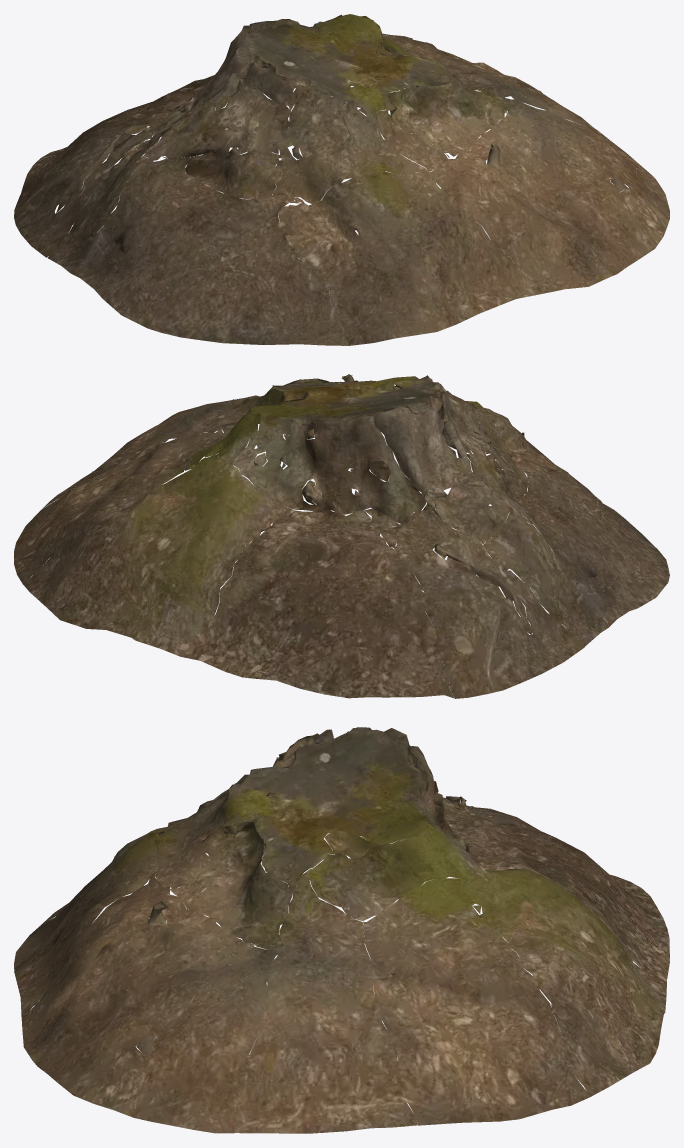
Rendered from tree_stump_02.glb.
The picture shows the model from 3 angles, top to bottom: view 1: azimuth 30°, elevation 25°; view 2: azimuth 150°, elevation 25°; view 3: azimuth 270°, elevation 25°; orthographic projection. The views are drawn at different scales.
Parts seen in each view (by area): view 1: tree_stump_02; view 2: tree_stump_02; view 3: tree_stump_02.
Part boxes in pixels (x1,y1,x2,y2): tree_stump_02: (14, 14, 669, 345); tree_stump_02: (14, 374, 669, 698); tree_stump_02: (14, 727, 669, 1133).
Size of the model in its own units: 1.52 by 0.5227 by 1.39.
1 material, 1 textured.
